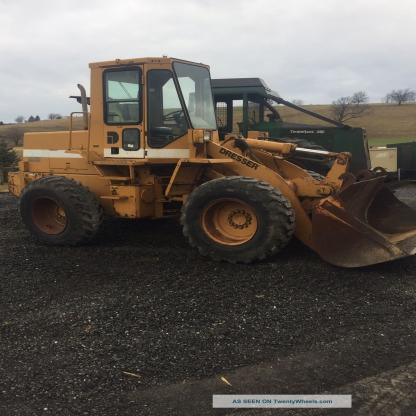bull_dozer/loader/grader: (12, 54, 416, 289)
